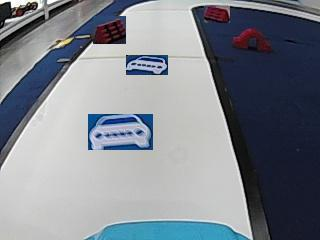bridge: (231, 26, 271, 51)
